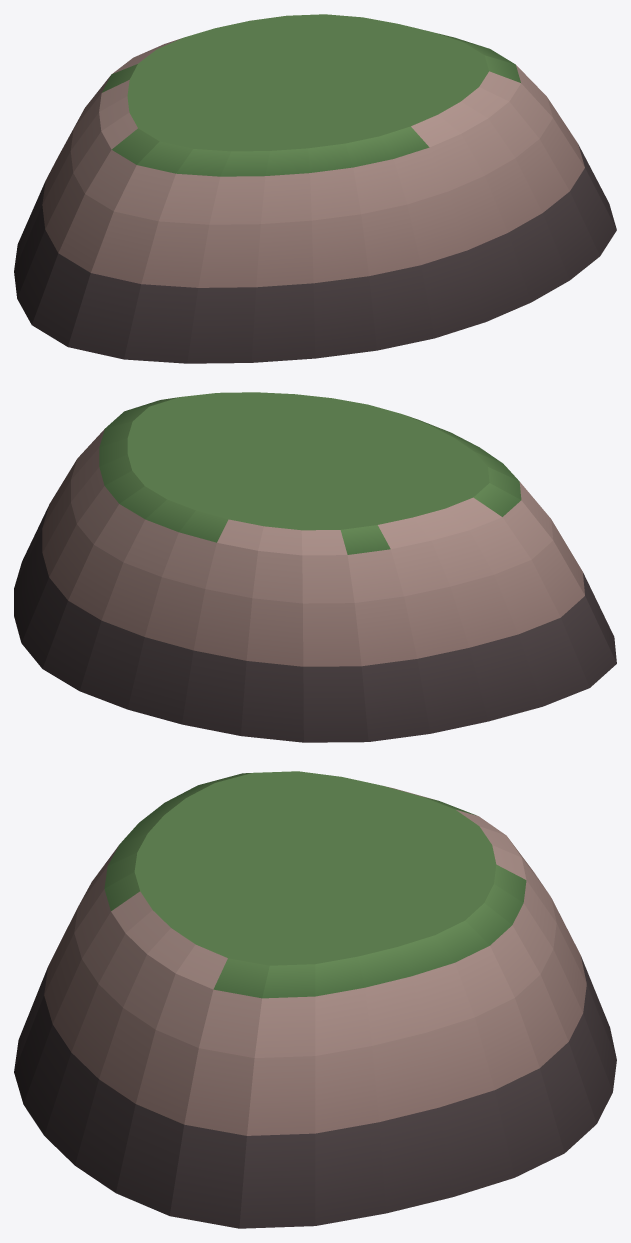
The model's file is lumber-headland.glb.
3 views of the same model, one above another, from view 1: azimuth 30°, elevation 25°; view 2: azimuth 150°, elevation 25°; view 3: azimuth 270°, elevation 25° (orthographic). The views are drawn at different scales.
Visible parts, largest first — view 1: headland; view 2: headland; view 3: headland.
Part boxes in pixels (bbox=[...]): headland: bbox=[14, 14, 616, 363]; headland: bbox=[14, 392, 616, 742]; headland: bbox=[14, 771, 616, 1228].
Size of the model in its own units: 10.54 by 3 by 8.28.
